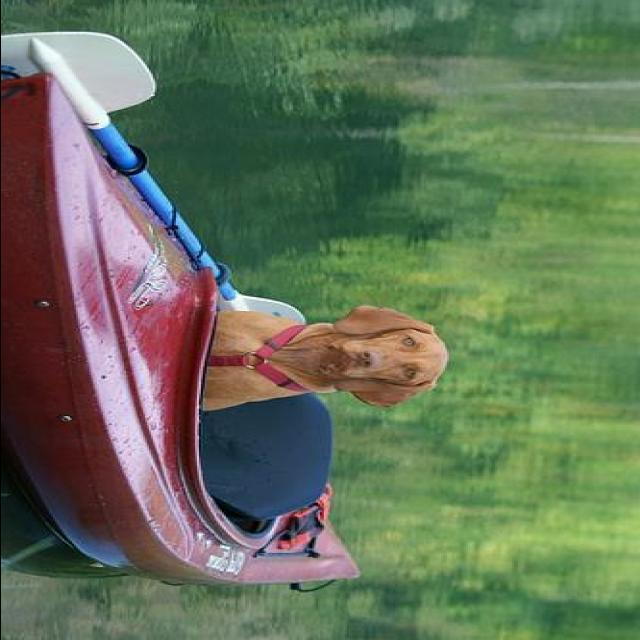vizsla: (202, 308, 450, 411)
